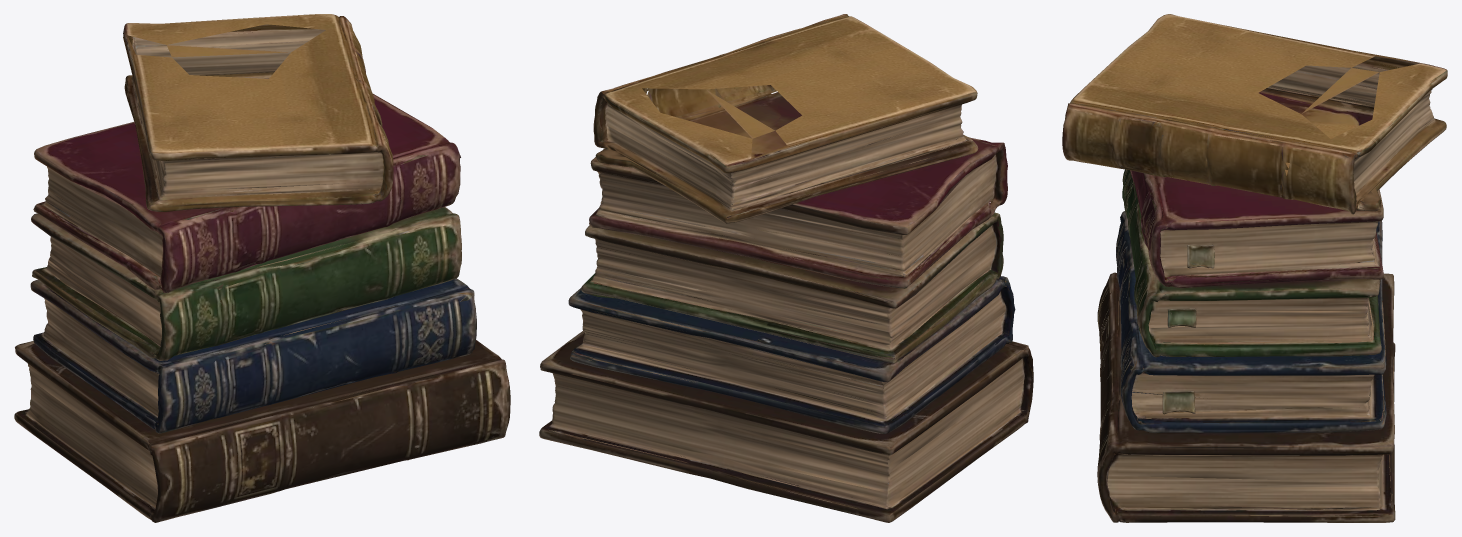
File: book_stack.glb
3 views of the same model, side by side, from view 1: azimuth 30°, elevation 25°; view 2: azimuth 150°, elevation 25°; view 3: azimuth 270°, elevation 25° (orthographic).
Bounding box in the file's own units: 0.9531 × 0.8887 × 0.8862.
Materials: 1 (1 with a texture image).
